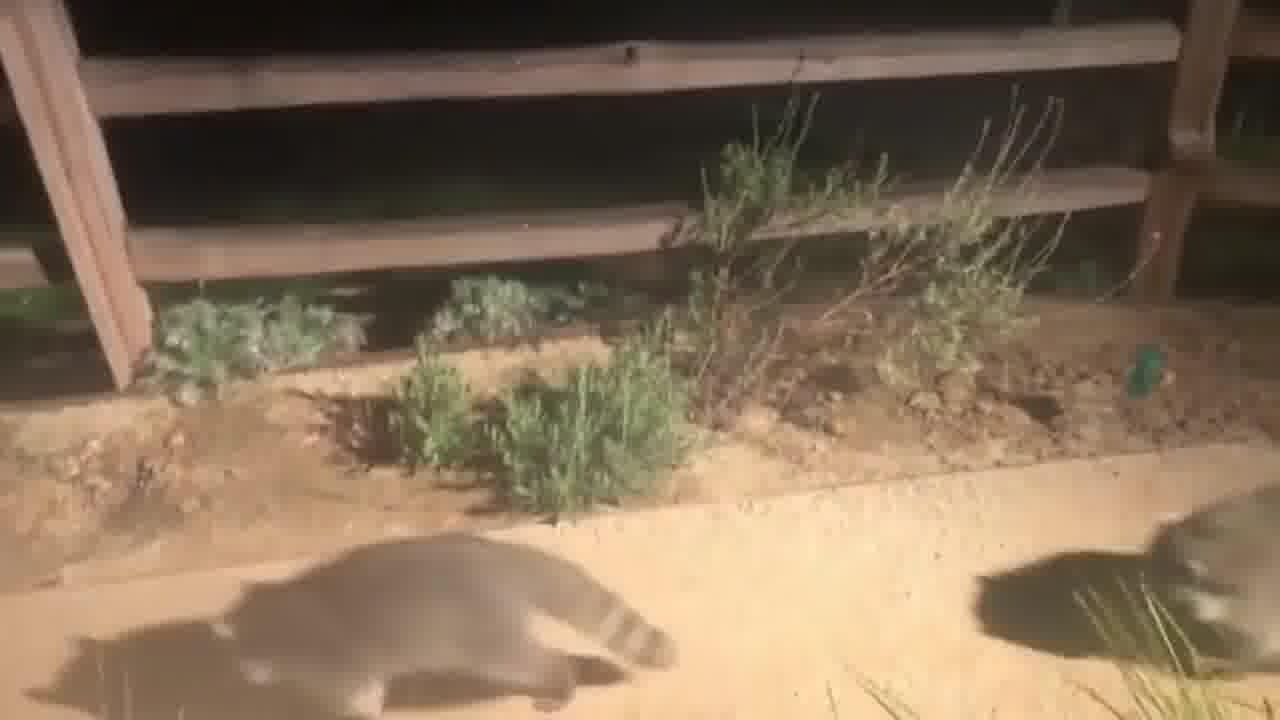raccoon: (193, 514, 691, 720), (1134, 470, 1280, 684)
